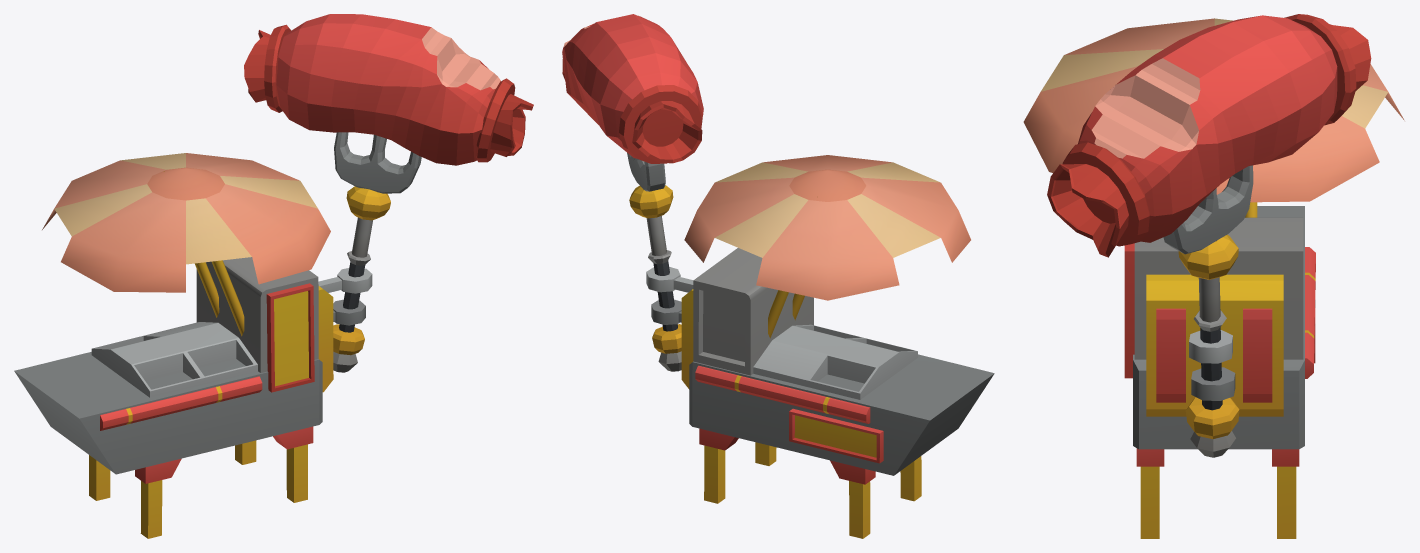
The model's file is HDK.fbx.
3 renders of one model, left to right at view 1: azimuth 30°, elevation 25°; view 2: azimuth 150°, elevation 25°; view 3: azimuth 270°, elevation 25°, orthographic. The views are drawn at different scales.
Visible parts, largest first — view 1: Hot_dog_kart; view 2: Hot_dog_kart; view 3: Hot_dog_kart.
Boxes of the visible parts, bbox=[...] form: Hot_dog_kart: bbox=[14, 14, 533, 538]; Hot_dog_kart: bbox=[562, 14, 994, 538]; Hot_dog_kart: bbox=[1023, 14, 1404, 538].
Bounding box in the file's own units: 198 × 185 × 112.
